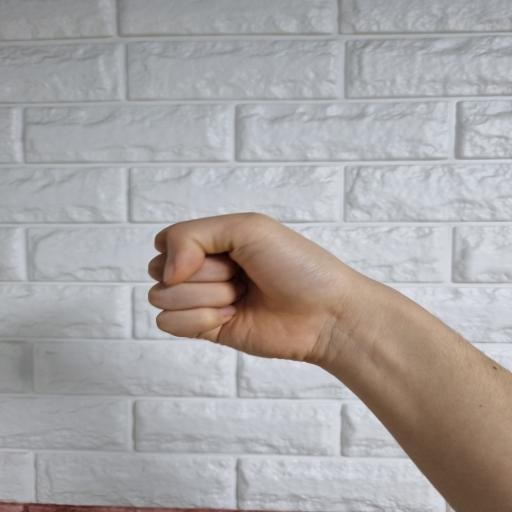Rock: (149, 212, 371, 364)
